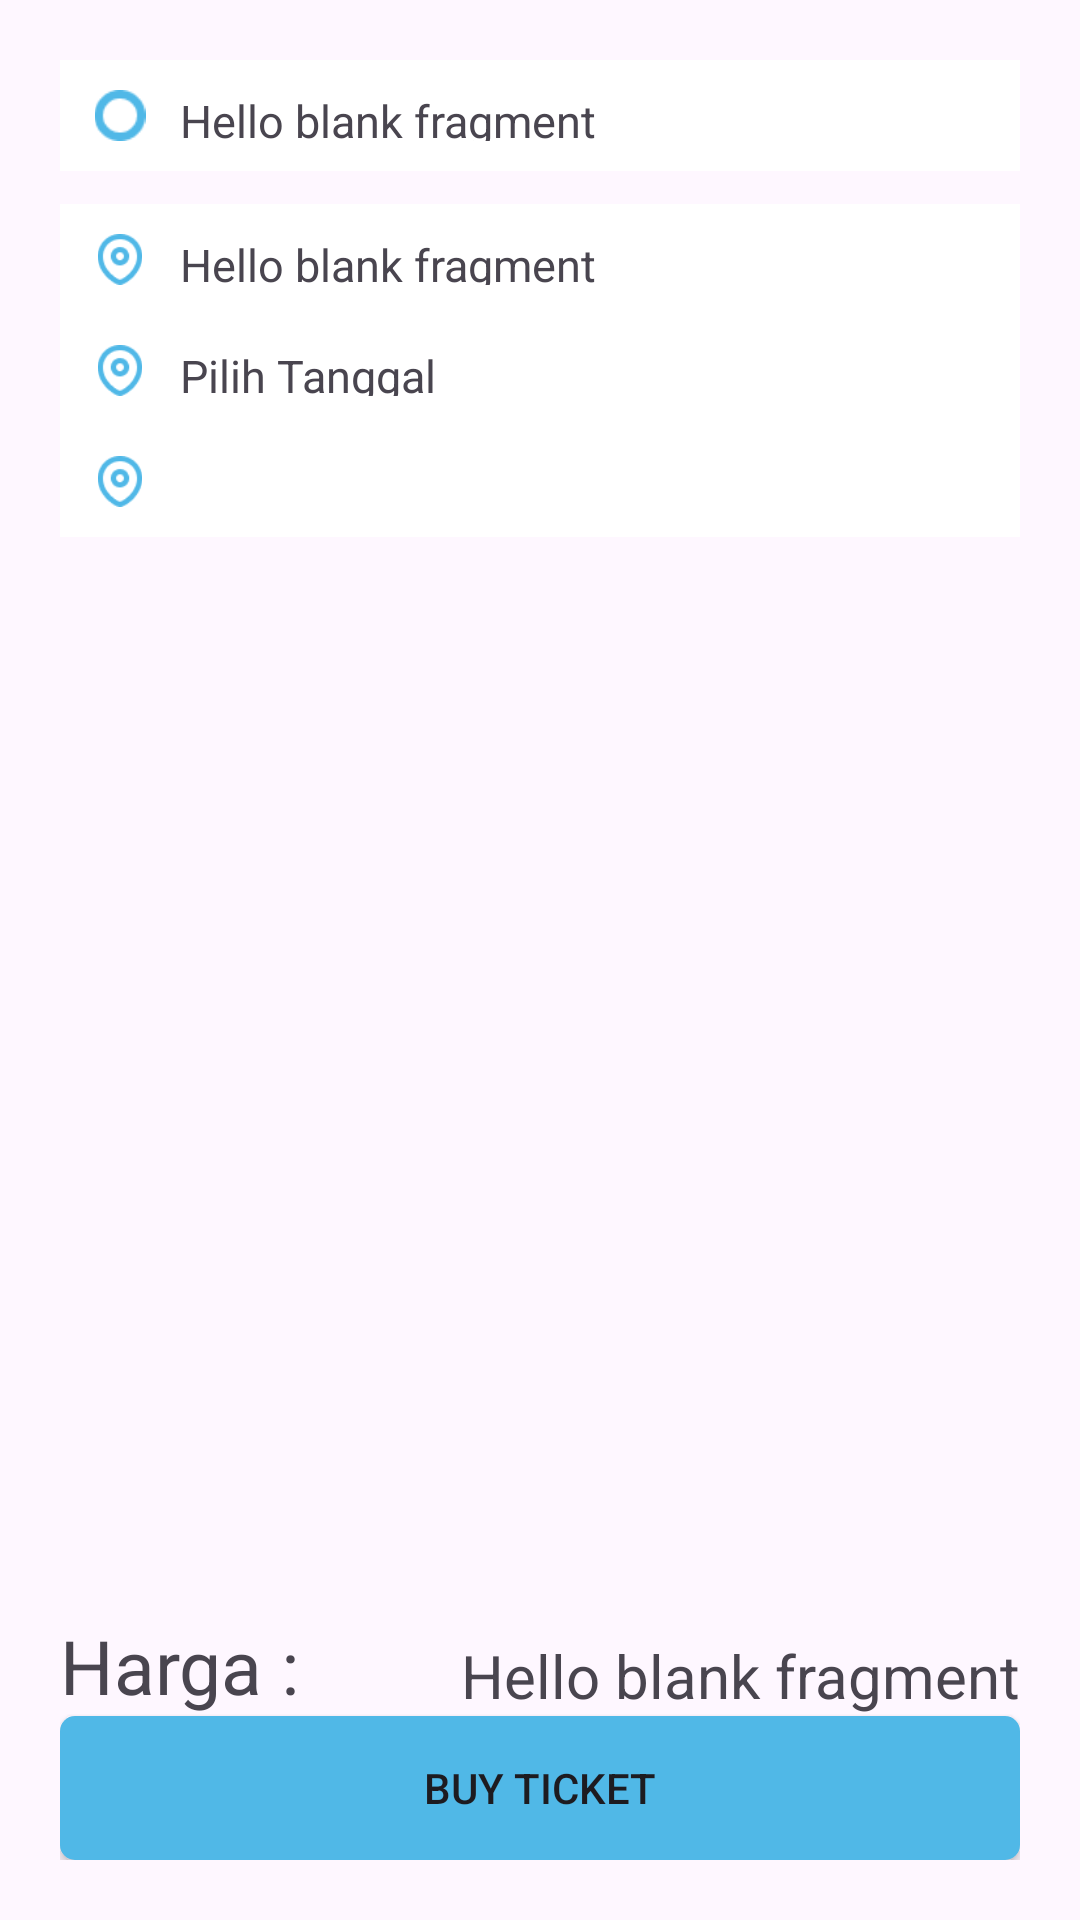

Where to tap for icons on this 1080px x 1920px app screen, as (x,y):
pin end: (120,259), (120,370), (120,481)
pin start: (120,115)
